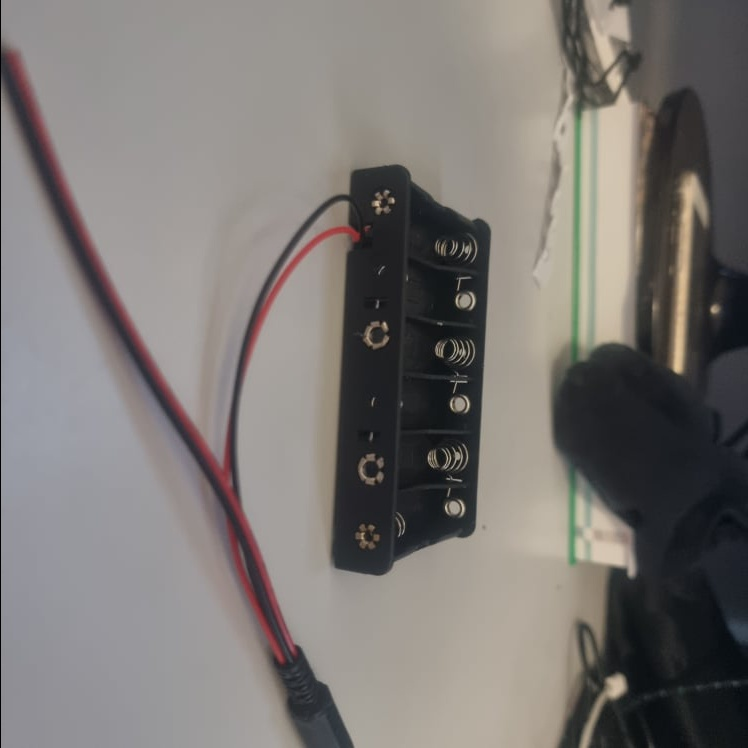BATTERY BOX: (323, 164, 494, 577)
